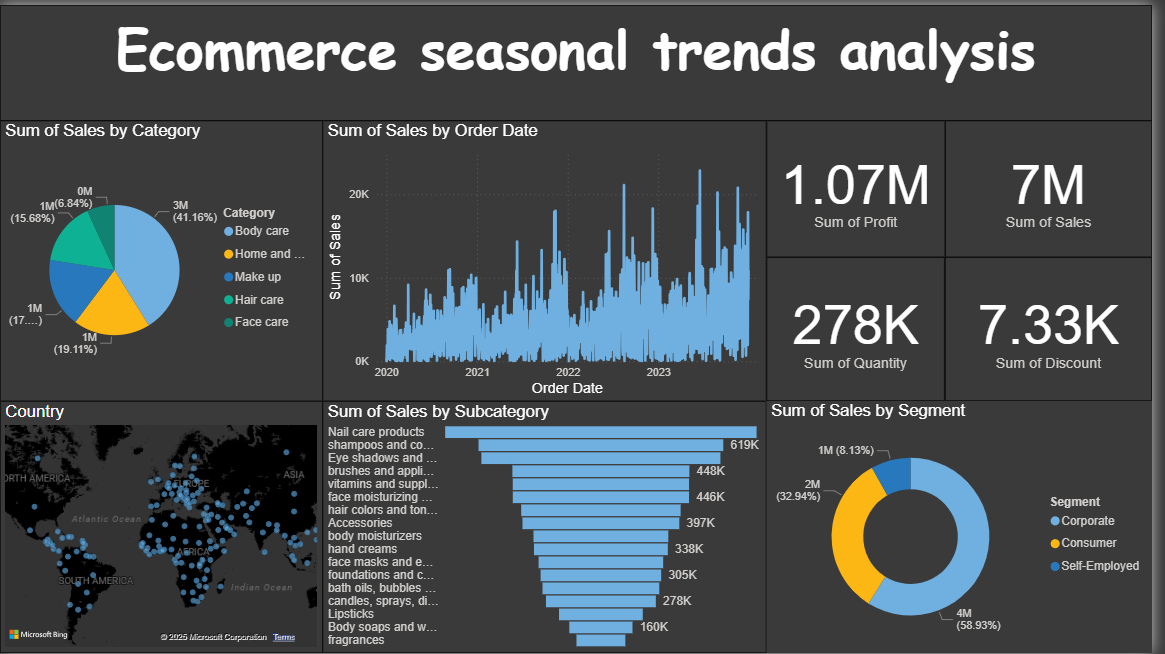

The page's visual inventory and layout, read from the dashboard file:
{"tool":"powerbi","page":{"name":"Page 1","canvas":[1280,720],"ordinal":0},"visuals":[{"type":"card","fields":{"Values":["Sum(data.Sales)"]},"box":[1050,128.3,230,151.7],"z":0},{"type":"card","fields":{"Values":["Sum(Table2.Profit)"]},"box":[851.7,128.3,198.3,151.7],"z":1000},{"type":"card","fields":{"Values":["Sum(Table2.Discount)"]},"box":[1050,280,230,160],"z":2000},{"type":"card","fields":{"Values":["Sum(Table2.Quantity)"]},"box":[851.8,280,198.2,160],"z":3000},{"type":"donutChart","fields":{"Category":["data.Region"],"Y":["Sum(data.Sales)"]},"box":[851.7,440,428.3,280],"z":4000},{"type":"funnel","fields":{"Category":["data.Subcategory"],"Y":["Sum(data.Sales)"]},"box":[358.3,440,493.3,280],"z":5000},{"type":"pieChart","fields":{"Category":["data.Category"],"Y":["Sum(data.Sales)"]},"box":[0,128.3,358.3,311.7],"z":6000},{"type":"map","fields":{"Category":["data.Country"]},"box":[0,440,358.3,280],"z":7000},{"type":"lineChart","fields":{"Category":["data.Order Date"],"Y":["Sum(data.Sales)"]},"box":[358.3,128.3,493.3,311.7],"z":8000},{"type":"textbox","box":[0,0,1280,128.3],"z":9000},{"type":"donutChart","fields":{"Category":["data.Segment"],"Y":["Sum(data.Sales)"]},"box":[851.7,440,428.3,280],"z":10000}]}

Visuals, with their boxes in screenshot pixels (x1, y1, x2, y2), scaled from the page's 1280x720 canvas onto the 1165x654 screenshot:
card - Sum(data.Sales): x1=956, y1=117, x2=1164, y2=254
card - Sum(Table2.Profit): x1=775, y1=117, x2=956, y2=254
card - Sum(Table2.Discount): x1=956, y1=254, x2=1164, y2=400
card - Sum(Table2.Quantity): x1=775, y1=254, x2=956, y2=400
donutChart - data.Region x Sum(data.Sales): x1=775, y1=400, x2=1164, y2=653
funnel - data.Subcategory x Sum(data.Sales): x1=326, y1=400, x2=775, y2=653
pieChart - data.Category x Sum(data.Sales): x1=0, y1=117, x2=326, y2=400
map - data.Country: x1=0, y1=400, x2=326, y2=653
lineChart - data.Order Date x Sum(data.Sales): x1=326, y1=117, x2=775, y2=400
textbox: x1=0, y1=0, x2=1164, y2=117
donutChart - data.Segment x Sum(data.Sales): x1=775, y1=400, x2=1164, y2=653
